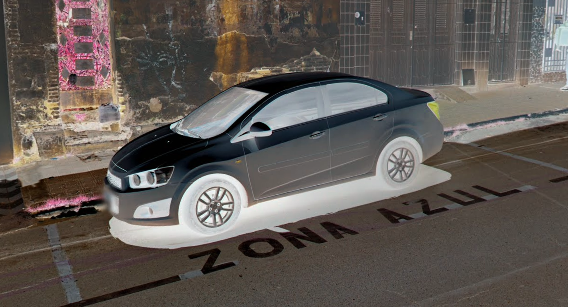car: (98, 50, 448, 241)
